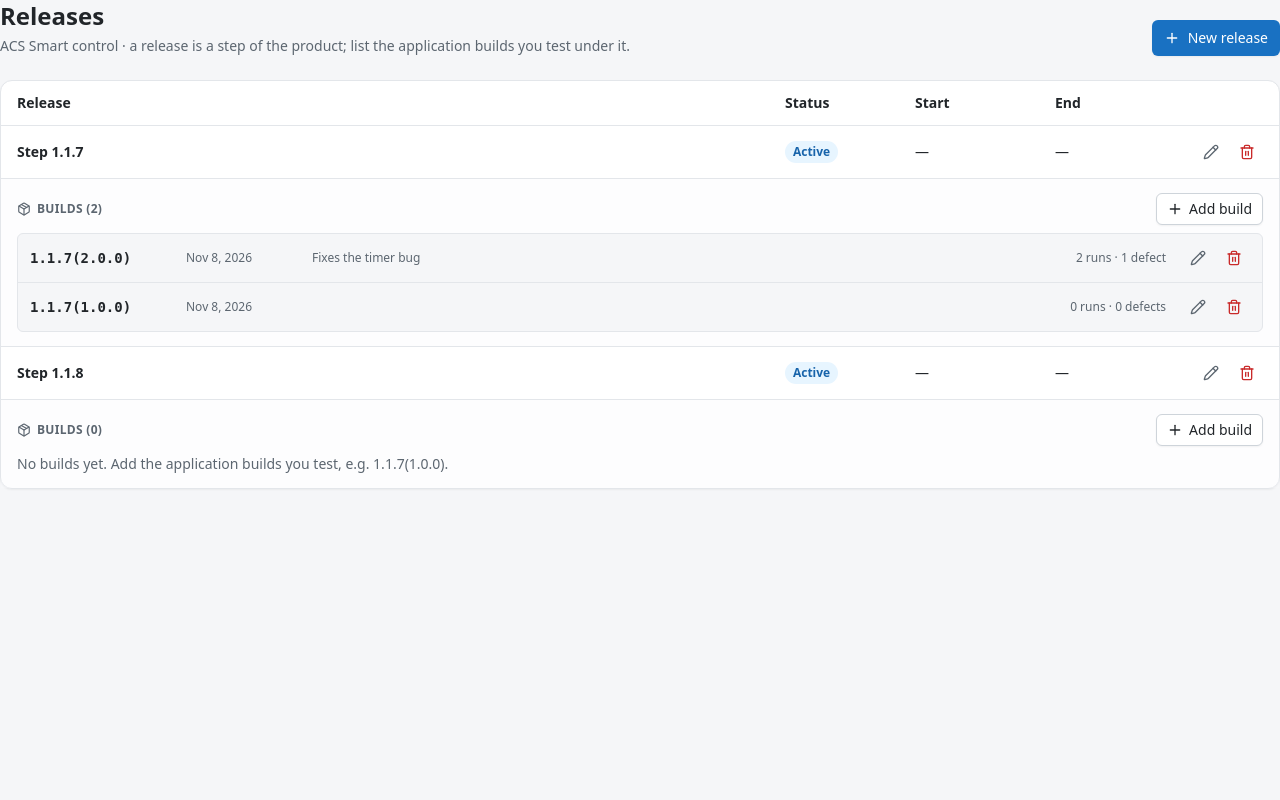
builds on the releases page › says so when the release already has the build
The image size is (1280, 800).
Click the button with aria-label "Add build to Step 1.1.7".
click(1210, 208)  # box top-left (1156, 192), bottom-right (1263, 224)
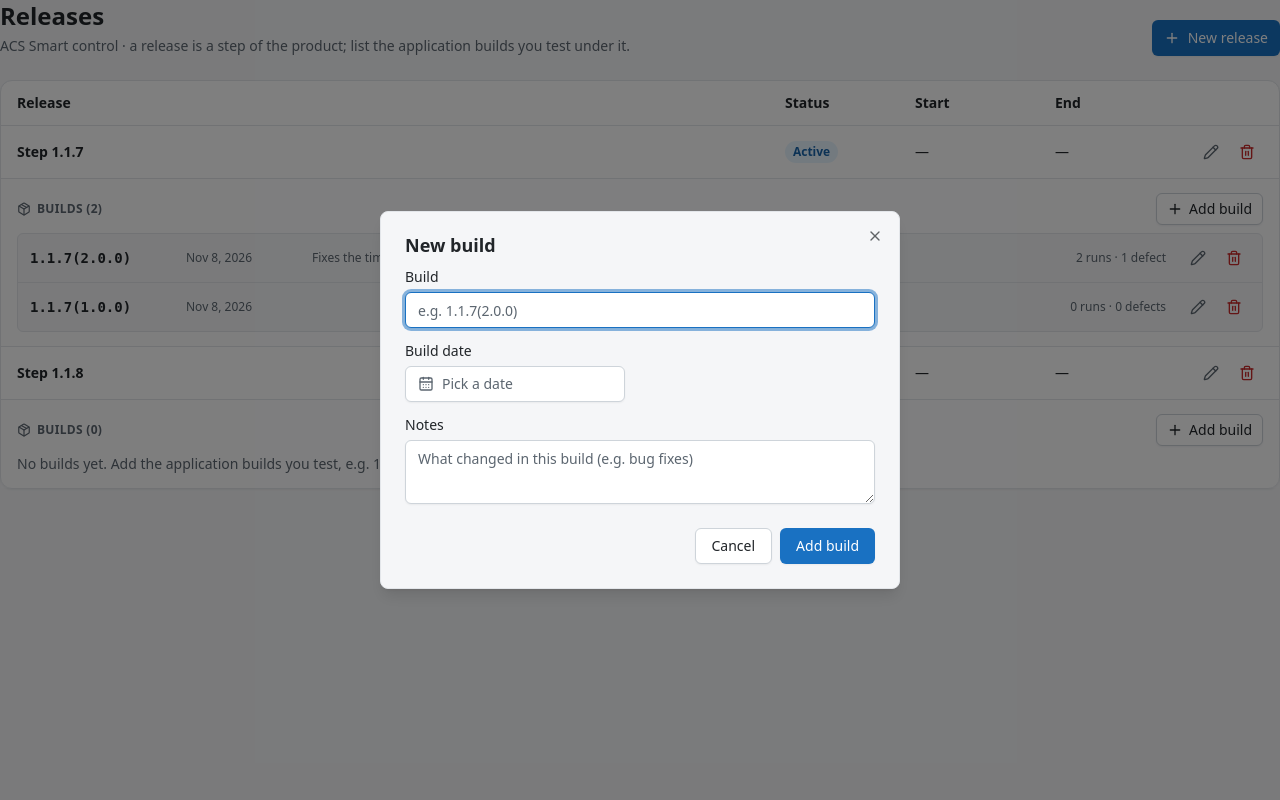
Type "1.1.7(2.0.0)" into the field labelled "Build".
click(640, 310); type("1.1.7(2.0.0)")  # box top-left (405, 292), bottom-right (875, 328)
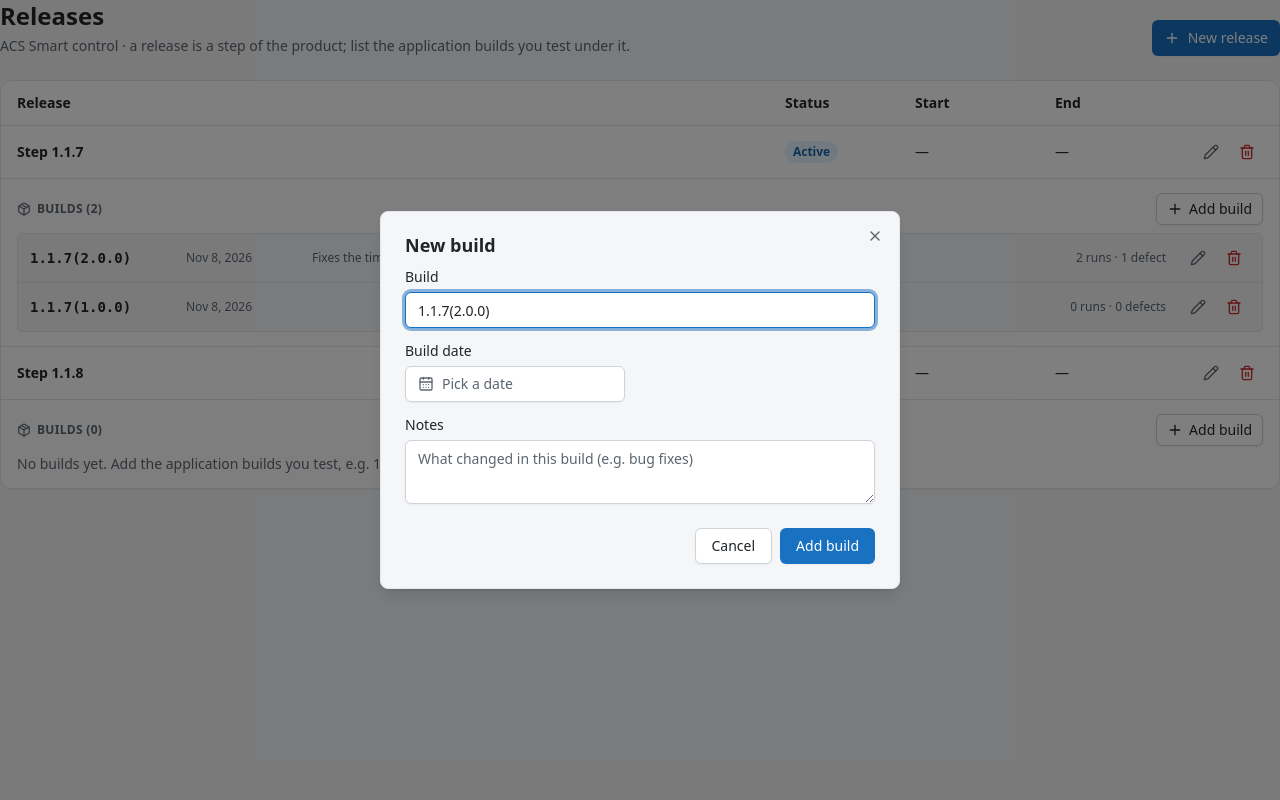
Click the button "Add build".
click(828, 546)  # box top-left (780, 528), bottom-right (875, 564)
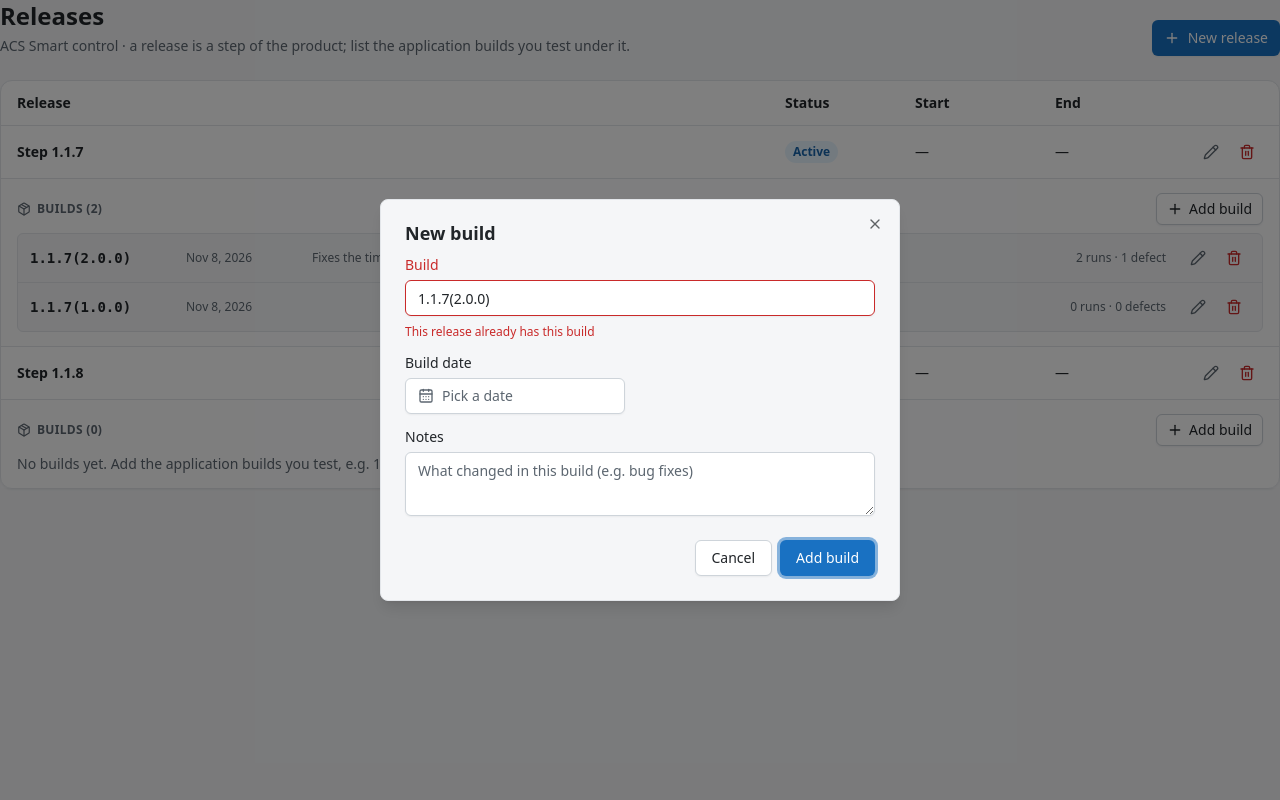
Check: the text "This release already has this build" is shown, box top-left (405, 323), bottom-right (594, 340)
